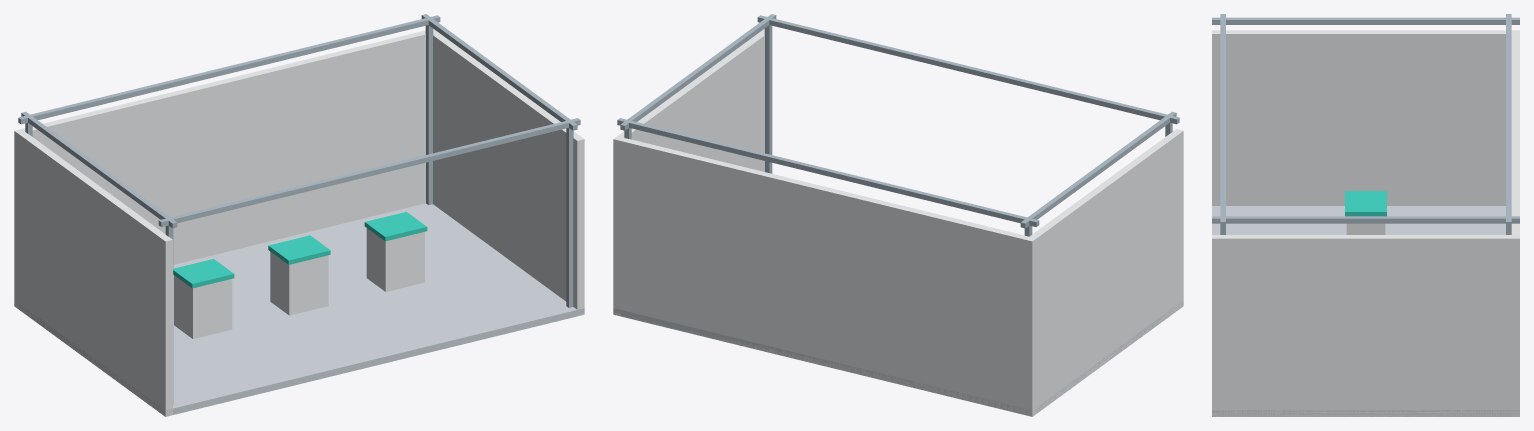
The picture shows the model from 3 angles, left to right: view 1: azimuth 30°, elevation 25°; view 2: azimuth 150°, elevation 25°; view 3: azimuth 270°, elevation 25°; orthographic projection.
Parts seen in each view (by area): view 1: Exhibition Booth Concept; view 2: Exhibition Booth Concept; view 3: Exhibition Booth Concept.
Boxes of the visible parts, bbox=[...] form: Exhibition Booth Concept: bbox=[14, 14, 584, 416]; Exhibition Booth Concept: bbox=[613, 14, 1183, 416]; Exhibition Booth Concept: bbox=[1212, 14, 1519, 416].
Bounding box in the file's own units: 8 × 3.49 × 5.
